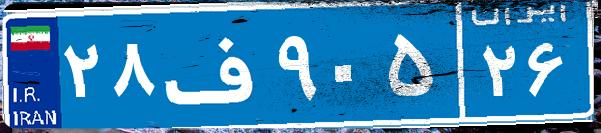0: (330, 28, 385, 110)
2: (57, 26, 110, 107), (475, 38, 525, 113)
5: (385, 28, 445, 110)
6: (525, 38, 570, 115)
8: (110, 28, 158, 105)
9: (273, 28, 330, 110)
ف: (158, 15, 273, 115)
